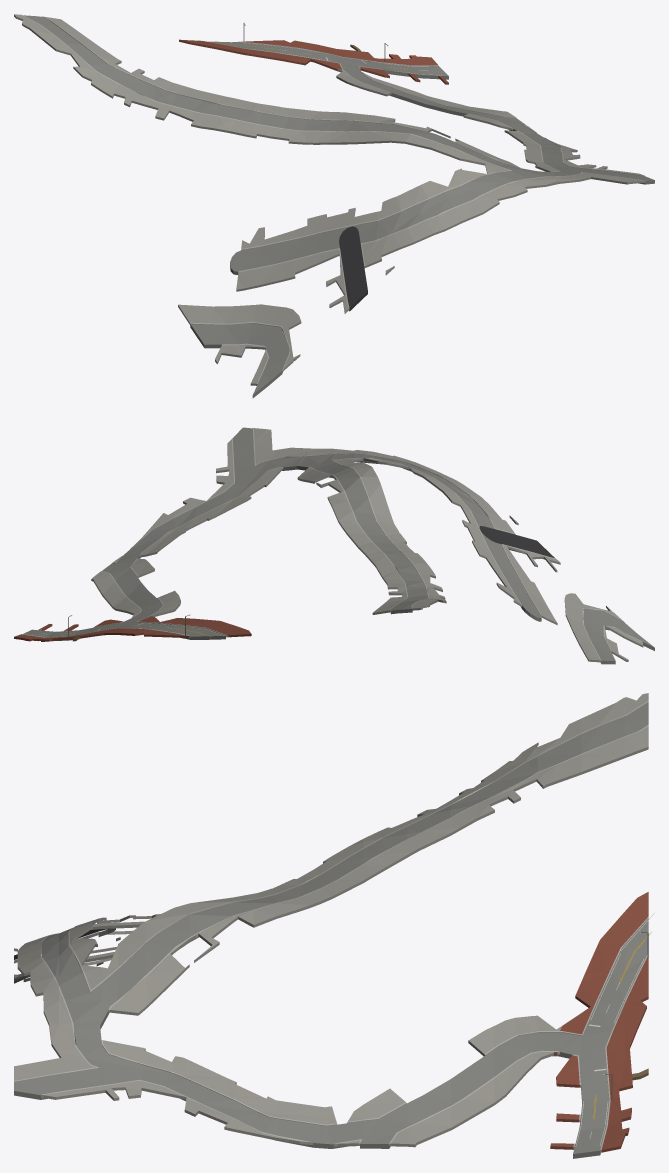
File: 18-218887-118966.5358ada8.glb
3 views of the same model, one above another, from view 1: azimuth 30°, elevation 25°; view 2: azimuth 150°, elevation 25°; view 3: azimuth 270°, elevation 25° (orthographic). The views are drawn at different scales.
Size of the model in its own units: 147 by 73.85 by 147.
